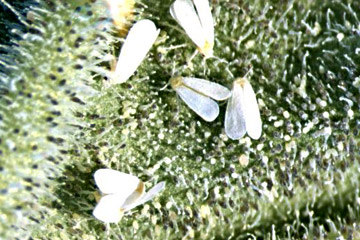whitefly: (162, 62, 231, 123), (94, 169, 165, 224), (169, 1, 226, 62), (109, 20, 160, 85), (223, 66, 262, 140)
